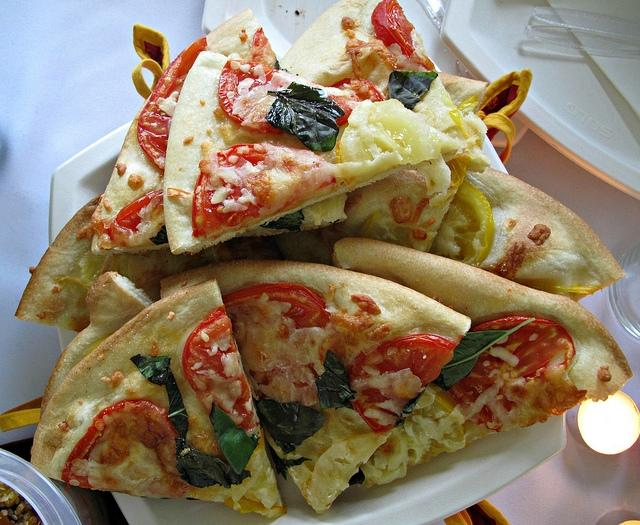tomato: (348, 334, 457, 434), (452, 318, 575, 405), (62, 399, 180, 489), (137, 36, 208, 173), (182, 304, 256, 432), (222, 283, 331, 329), (218, 60, 284, 134), (108, 188, 166, 248), (371, 1, 415, 58), (329, 78, 384, 102), (217, 144, 266, 168)
